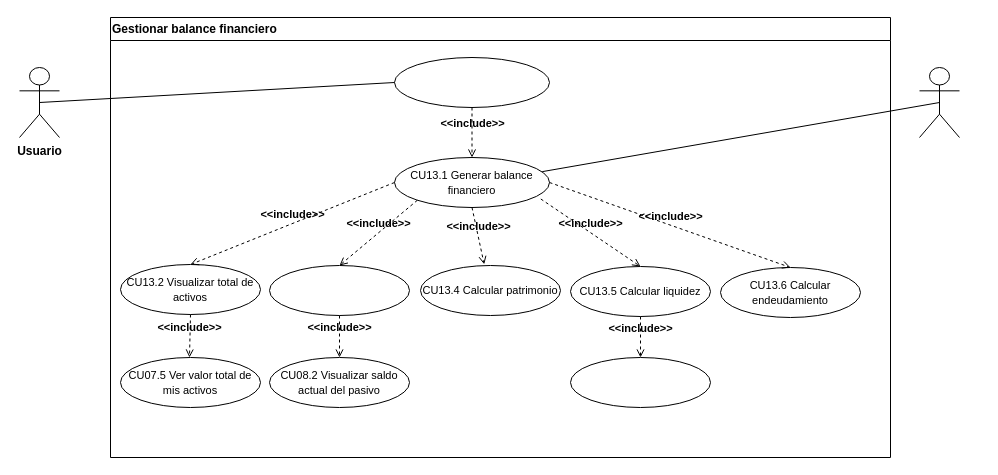
The diagram is 998 pixels wide and 475 high, and some of its shapes have lost their labels. Each missing label, with the centre of its shape:
"Base de Datos" goes at (939,102).
"CU04.2 Visualizar saldo actual" goes at (640,382).
"CU13 Gestionar balance financiero" goes at (472,82).
"CU13.3 Visualizar total de pasivos" goes at (339,290).
